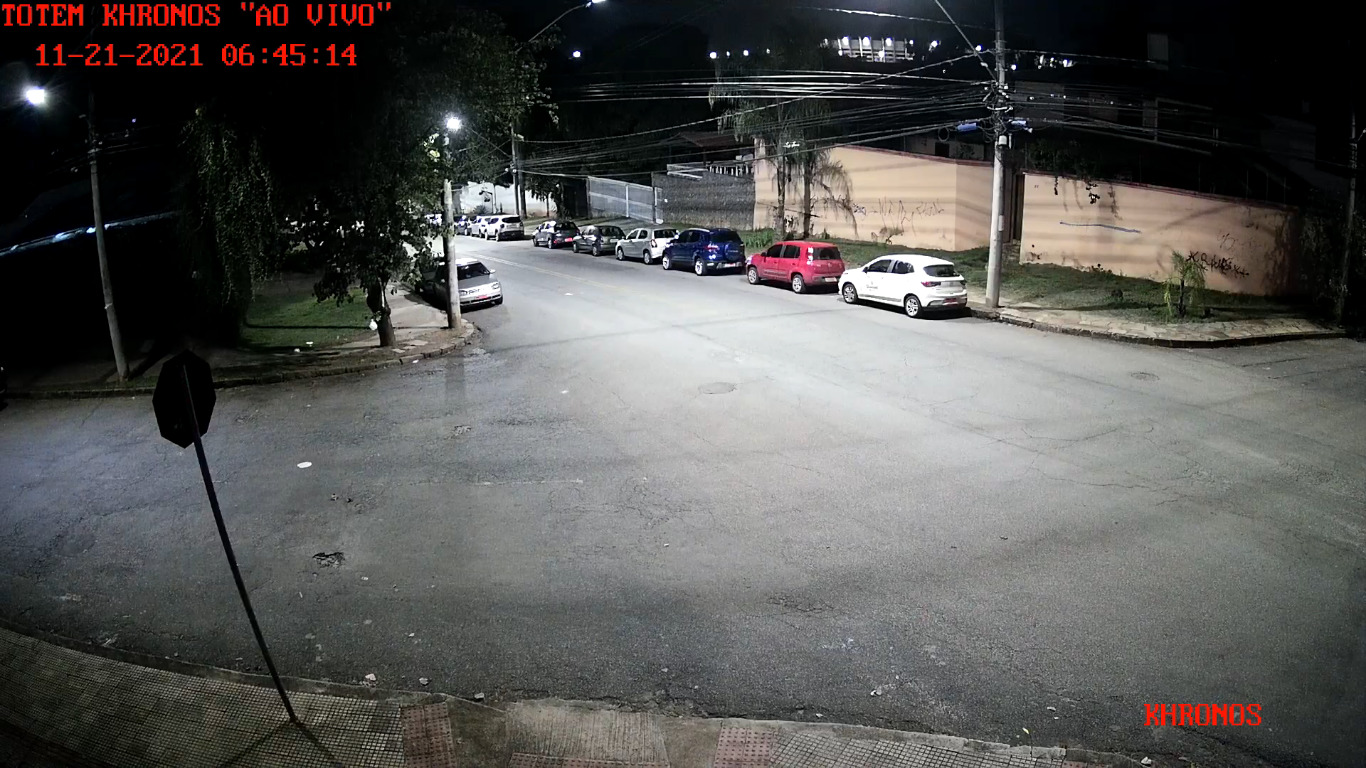car: (836, 252, 969, 319), (744, 240, 847, 296), (661, 226, 746, 277), (434, 255, 503, 314), (614, 226, 682, 264), (571, 223, 627, 257), (531, 220, 582, 250)
